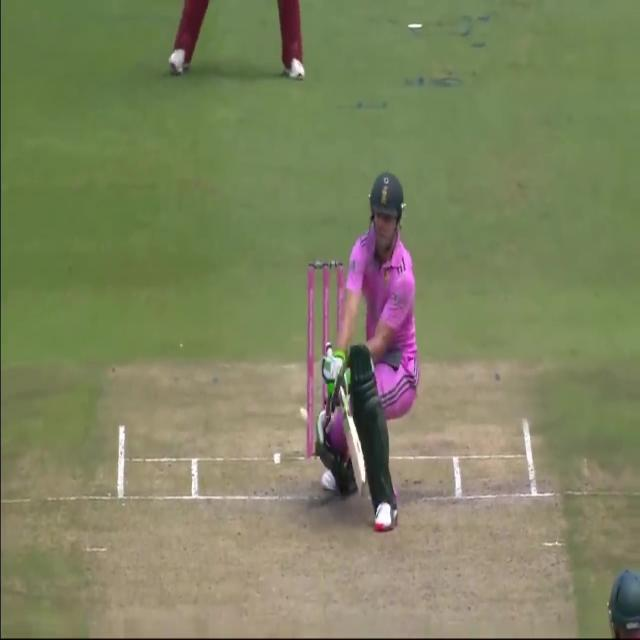Ball: (314, 173, 420, 535)
Fielder: (166, 0, 309, 85)
